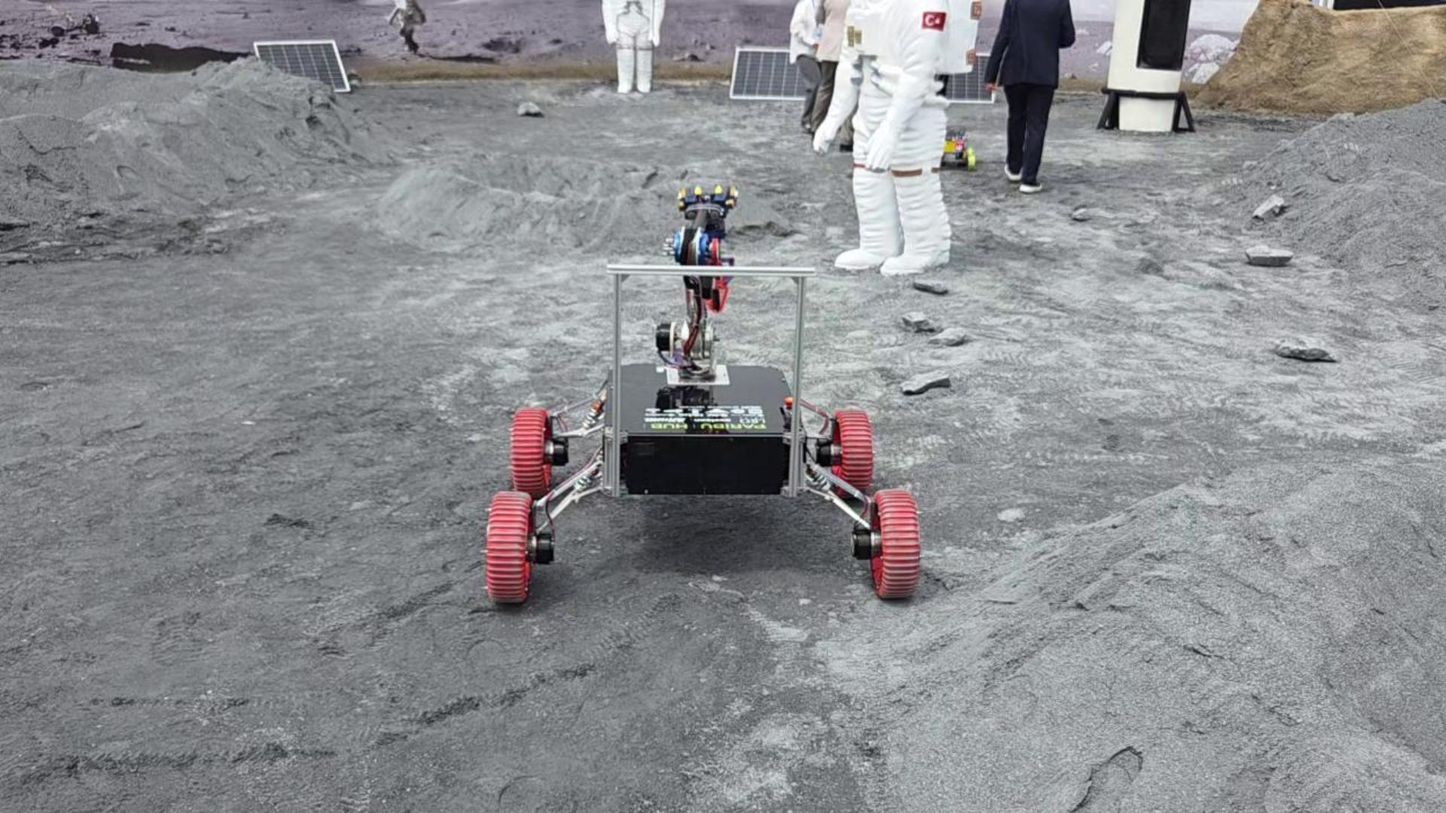rock: (1274, 336, 1339, 361), (900, 371, 951, 394), (1246, 244, 1292, 265), (1251, 194, 1286, 220), (900, 312, 941, 332), (929, 327, 968, 346), (912, 280, 948, 295), (516, 102, 543, 116), (1070, 208, 1090, 221)
